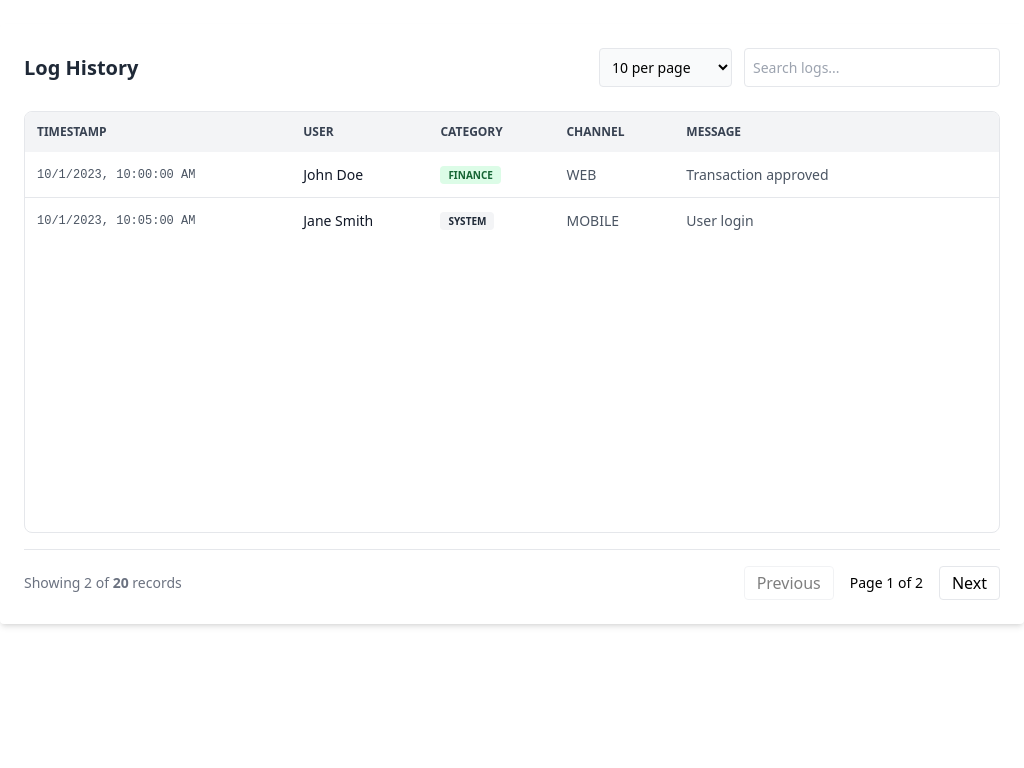
LogHistory Component › handles pagination correctly
Expected: the text "Transaction approved" is shown, [674, 152, 999, 198]
Step 1. Click the button "Next" → (969,583), box [939, 566, 1000, 600]
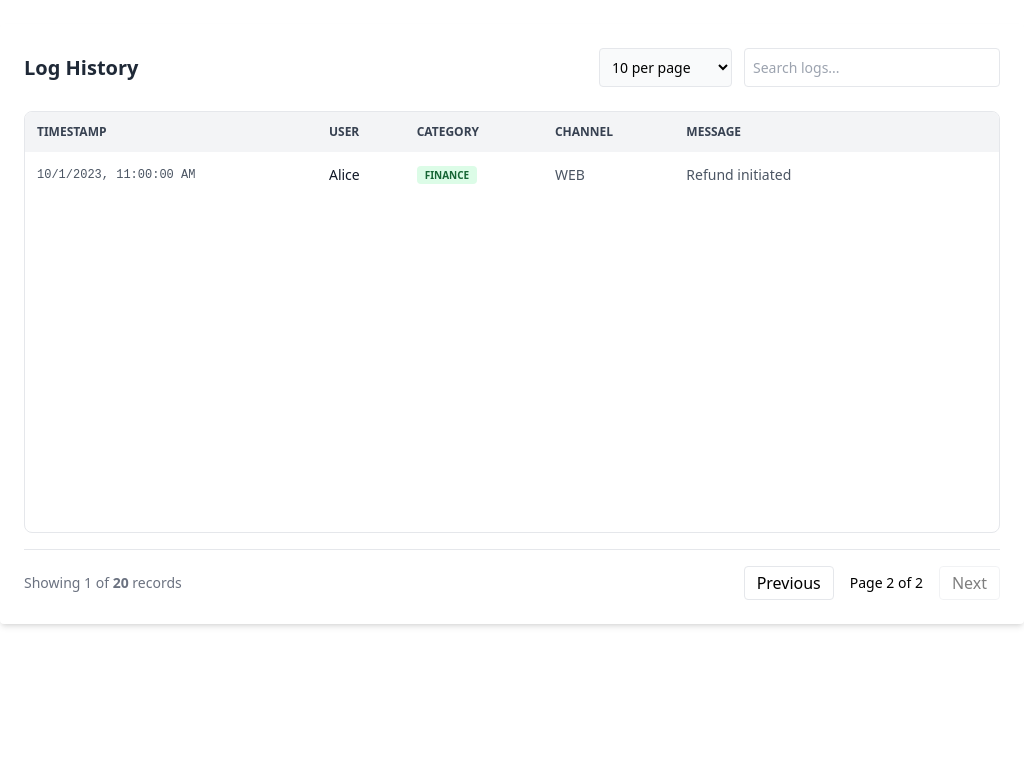
Now the text "Refund initiated" is shown, box [674, 152, 999, 197]
